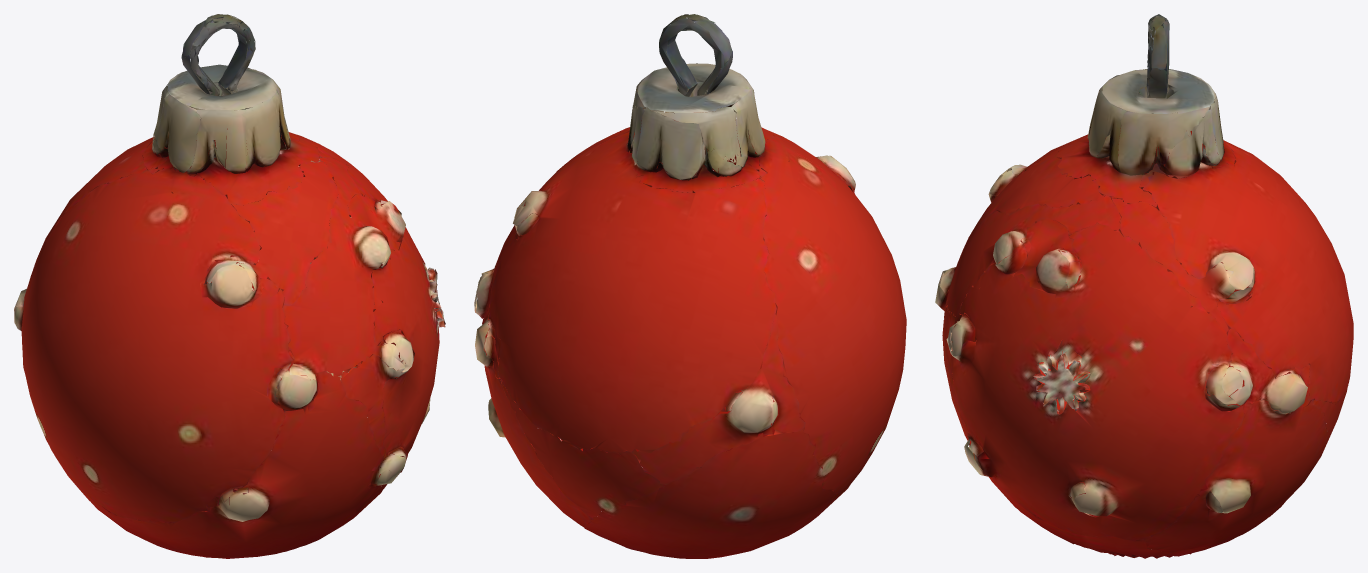
The model's file is ornamentA.glb.
3 renders of one model, left to right at view 1: azimuth 30°, elevation 25°; view 2: azimuth 150°, elevation 25°; view 3: azimuth 270°, elevation 25°, orthographic. The views are drawn at different scales.
Visible parts, largest first — view 1: Ornament_A; view 2: Ornament_A; view 3: Ornament_A.
Boxes of the visible parts, left/top/right/bottom form: Ornament_A: left=14, top=14, right=445, bottom=558; Ornament_A: left=474, top=14, right=906, bottom=558; Ornament_A: left=935, top=14, right=1353, bottom=558.
Size of the model in its own units: 0.1206 by 0.16 by 0.1226.
1 material, 1 textured.
